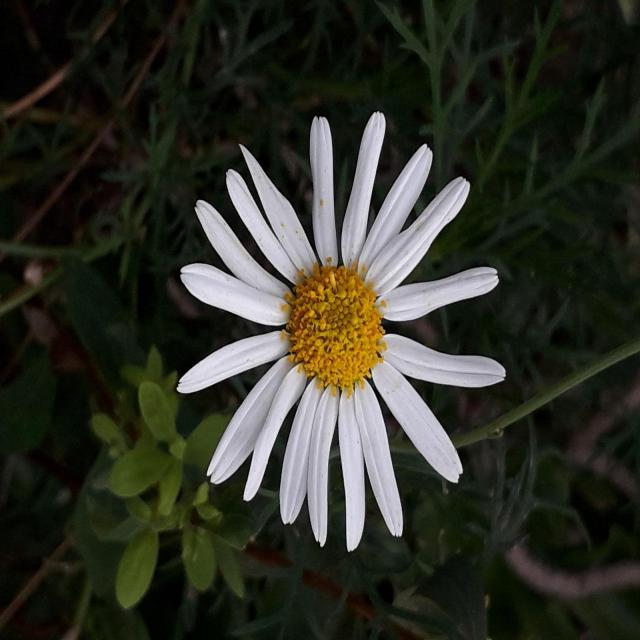organic waste: (168, 100, 506, 540)
